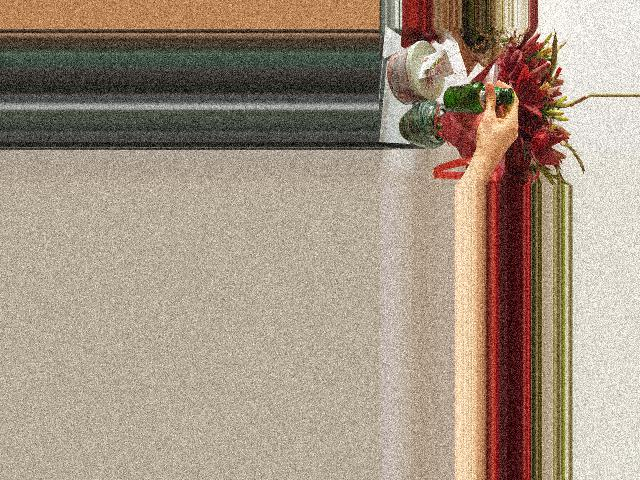beer: (442, 81, 513, 113)
